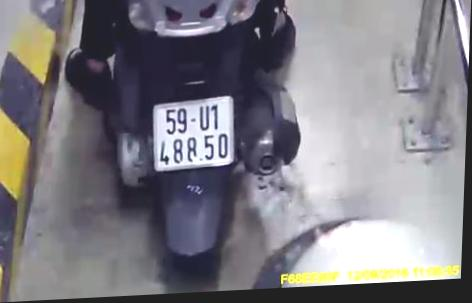License_Plate: (146, 93, 249, 177)
